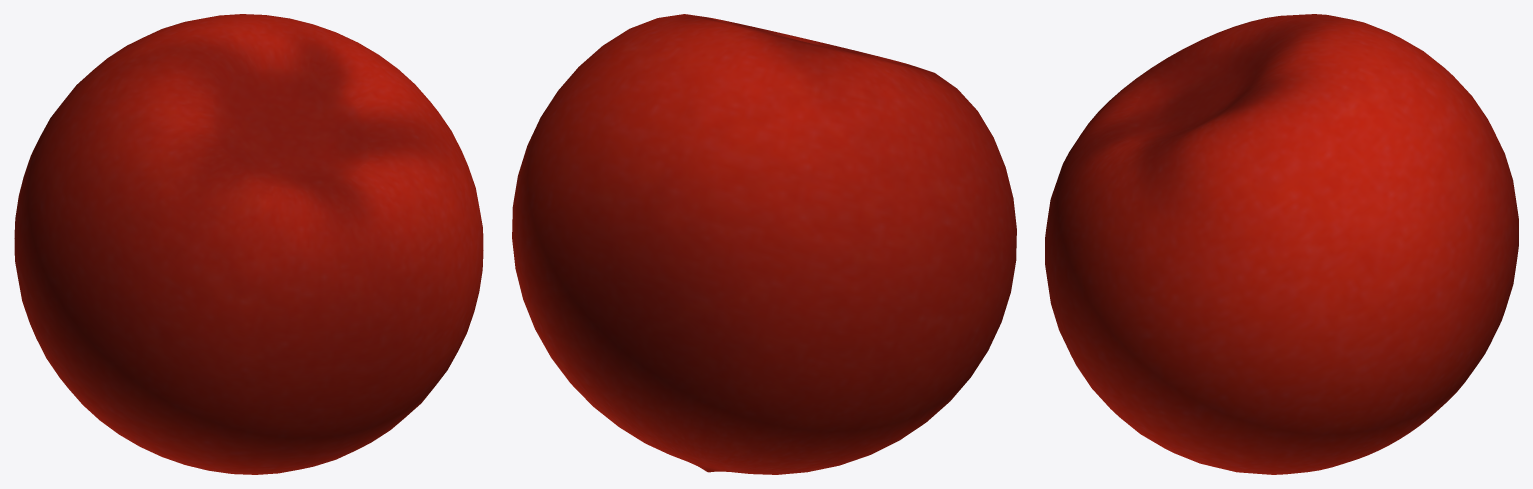
File: tomato_03.obj
3 renders of one model, left to right at view 1: azimuth 30°, elevation 25°; view 2: azimuth 150°, elevation 25°; view 3: azimuth 270°, elevation 25°, orthographic. The views are drawn at different scales.
Parts seen in each view (by area): view 1: tomato_03; view 2: tomato_03; view 3: tomato_03.
Boxes of the visible parts, box(x1,y1,x2,y2) form: tomato_03: box(14, 14, 483, 474); tomato_03: box(512, 14, 1016, 474); tomato_03: box(1045, 14, 1518, 474).
Bounding box in the file's own units: 3.69 × 3.48 × 3.64.
Materials: 1 (1 with a texture image).
